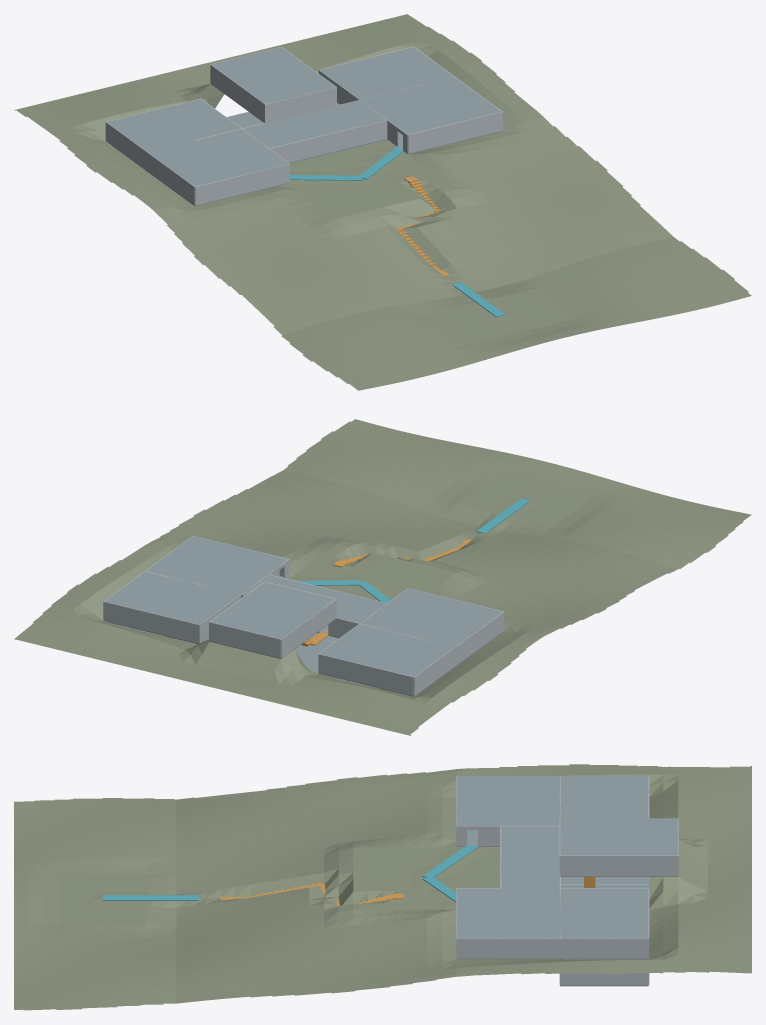
File: connected-stairs.glb
The picture shows the model from 3 angles, top to bottom: view 1: azimuth 30°, elevation 25°; view 2: azimuth 150°, elevation 25°; view 3: azimuth 270°, elevation 25°; orthographic projection. The views are drawn at different scales.
Visible parts, largest first — view 1: Saved editor occupied-room terrain WLD-17, Ceiling cap west, Ceiling cap east, Ceiling cap director, Ceiling cap service, Ceiling cap magazine, Ceiling cap gallery, Wall gallery S, Wall east S, Wall west S, Wall director S, Wall director W (+2 smaller); view 2: Saved editor occupied-room terrain WLD-17, Ceiling cap west, Ceiling cap east, Ceiling cap service, Ceiling cap director, Ceiling cap magazine, Wall service N, Wall magazine N, Ceiling cap gallery, Wall director N, Wall director W, Wall west W (+2 smaller); view 3: Saved editor occupied-room terrain WLD-17, Ceiling cap east, Ceiling cap west, Ceiling cap service, Ceiling cap director, Ceiling cap magazine, Ceiling cap gallery, Wall director E, Wall east E, Wall service E, Wall plant E, route-01 support 0 (+3 smaller).
Boxes of the visible parts, x1,y1,x2,y2 form: Saved editor occupied-room terrain WLD-17: [14, 14, 751, 390]; Ceiling cap west: [148, 129, 289, 186]; Ceiling cap east: [360, 77, 501, 134]; Ceiling cap director: [211, 47, 335, 104]; Ceiling cap service: [319, 47, 454, 99]; Ceiling cap magazine: [107, 99, 240, 151]; Ceiling cap gallery: [243, 100, 386, 148]; Wall gallery S: [269, 120, 387, 162]; Wall east S: [408, 112, 502, 153]; Wall west S: [195, 164, 289, 205]; Wall director S: [265, 87, 336, 122]; Wall director W: [210, 64, 265, 122]; Saved editor occupied-room terrain WLD-17: [14, 419, 751, 735]; Ceiling cap west: [360, 588, 502, 646]; Ceiling cap east: [146, 536, 287, 594]; Ceiling cap service: [104, 571, 240, 624]; Ceiling cap director: [210, 582, 335, 639]; Ceiling cap magazine: [319, 624, 454, 676]; Wall service N: [103, 601, 199, 643]; Wall magazine N: [318, 654, 413, 695]; Ceiling cap gallery: [241, 575, 386, 623]; Wall director N: [209, 622, 280, 658]; Wall director W: [281, 599, 336, 658]; Wall west W: [456, 611, 503, 665]; Saved editor occupied-room terrain WLD-17: [14, 764, 751, 1010]; Ceiling cap east: [456, 888, 559, 938]; Ceiling cap west: [456, 776, 559, 825]; Ceiling cap service: [560, 888, 648, 938]; Ceiling cap director: [560, 818, 678, 855]; Ceiling cap magazine: [560, 776, 648, 818]; Ceiling cap gallery: [501, 826, 559, 888]; Wall director E: [560, 855, 678, 876]; Wall east E: [456, 938, 559, 958]; Wall service E: [560, 938, 648, 958]; Wall plant E: [560, 973, 648, 985]; route-01 support 0: [102, 895, 198, 900].
Bounding box in the file's own units: 68 × 10.7 × 100.
